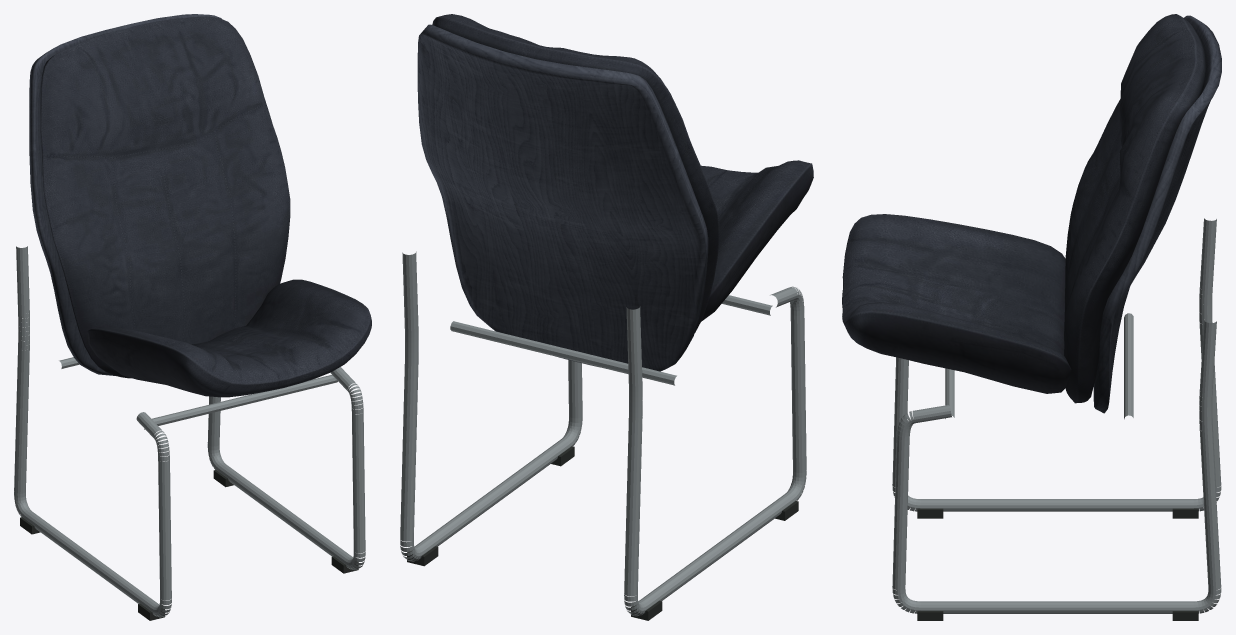
File: visitor_chair.gltf
The picture shows the model from 3 angles, left to right: view 1: azimuth 30°, elevation 25°; view 2: azimuth 150°, elevation 25°; view 3: azimuth 270°, elevation 25°; orthographic projection. The views are drawn at different scales.
Visible parts, largest first — view 1: visitor_chair; view 2: visitor_chair; view 3: visitor_chair.
Part boxes in pixels (box(x1,y1,x2,y2)): visitor_chair: box(14, 14, 371, 620); visitor_chair: box(400, 14, 813, 620); visitor_chair: box(842, 14, 1221, 620).
Bounding box in the file's own units: 0.5494 × 1.04 × 0.7033.
3 materials, 1 textured.
